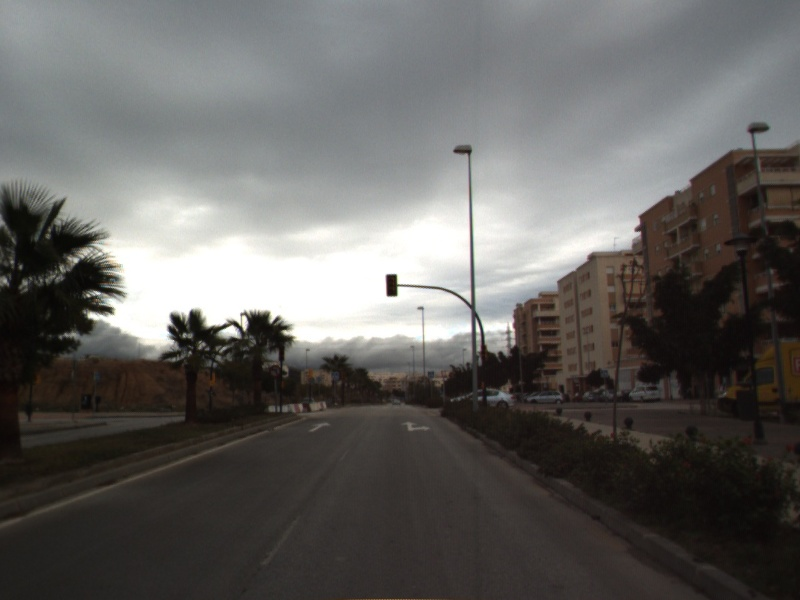STRAIGHT: (307, 420, 333, 434)
STRAIGHT_RIGHT: (399, 419, 433, 433)
